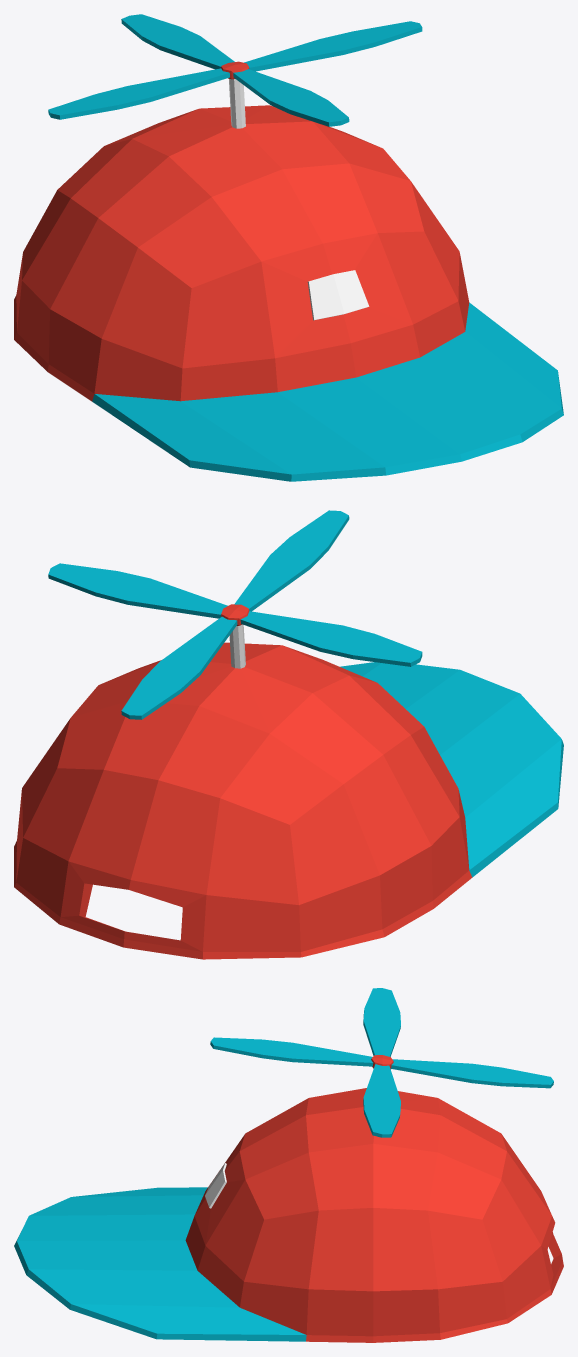
The model's file is Propeller hat.glb.
The picture shows the model from 3 angles, top to bottom: view 1: azimuth 30°, elevation 25°; view 2: azimuth 150°, elevation 25°; view 3: azimuth 270°, elevation 25°; orthographic projection. The views are drawn at different scales.
Visible parts, largest first — view 1: PropellerCap_01_Roundcube.001; view 2: PropellerCap_01_Roundcube.001; view 3: PropellerCap_01_Roundcube.001.
Boxes of the visible parts, x1,y1,x2,y2 form: PropellerCap_01_Roundcube.001: (14,14,563,481); PropellerCap_01_Roundcube.001: (14,510,563,959); PropellerCap_01_Roundcube.001: (14,988,563,1342).
Size of the model in its own units: 6.77 by 4.64 by 10.27.
